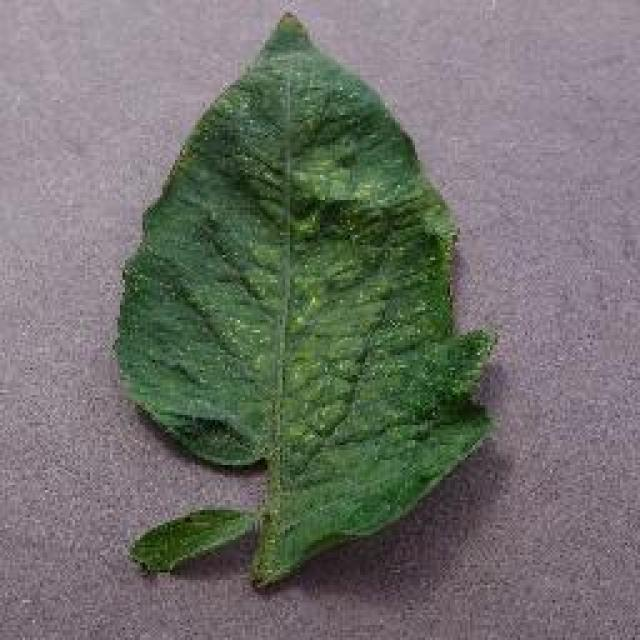Tomato___Spider_mites Two-spotted_spider_mite: (115, 15, 492, 582)
